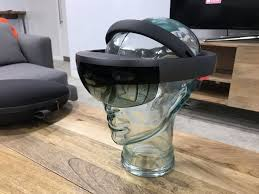hololens: (76, 36, 218, 108)
